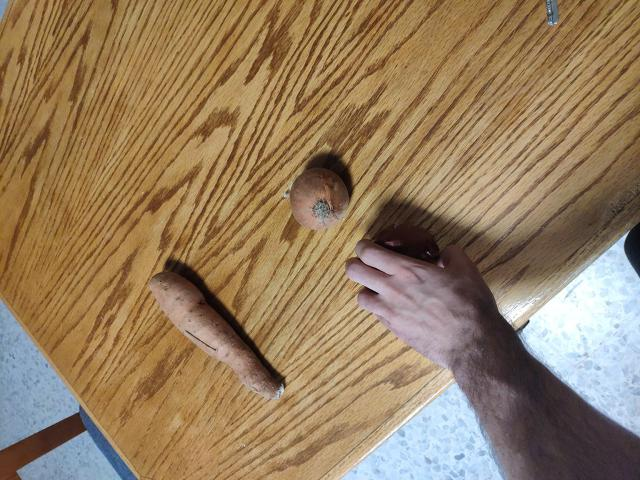onion: (373, 228, 442, 292)
